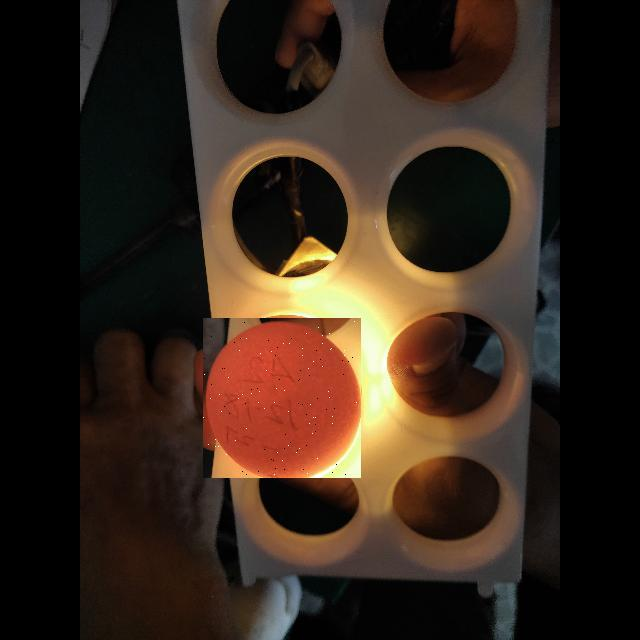Infertile: (203, 318, 361, 478)
